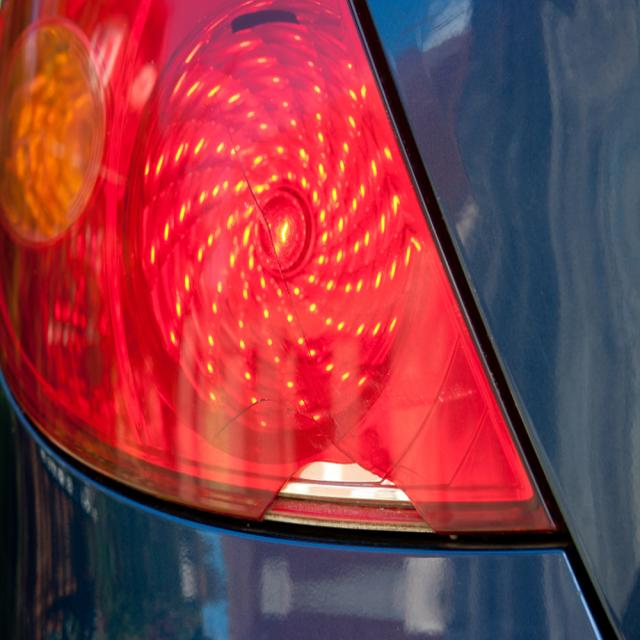Phare abime: (0, 0, 571, 546)
